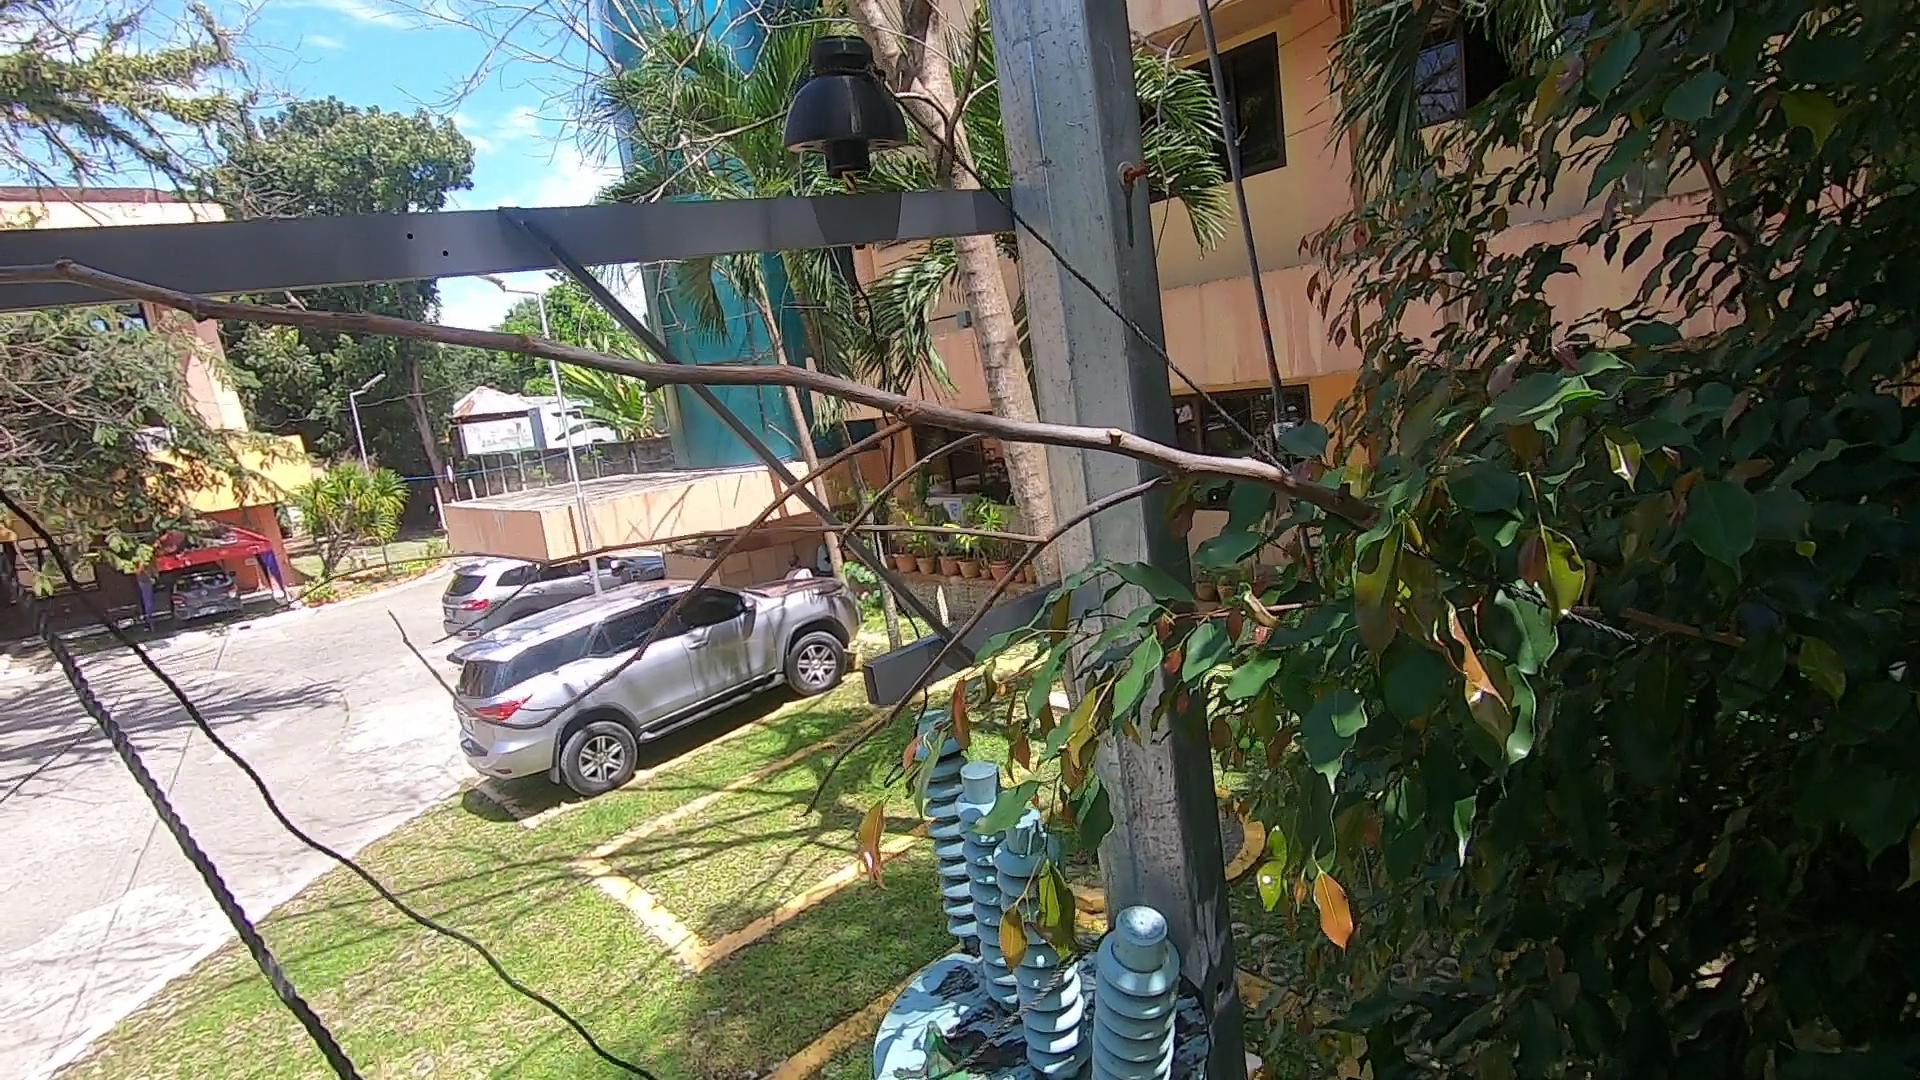leaf: (944, 1021, 1006, 1069)
tree branch: (1, 185, 1472, 833)
